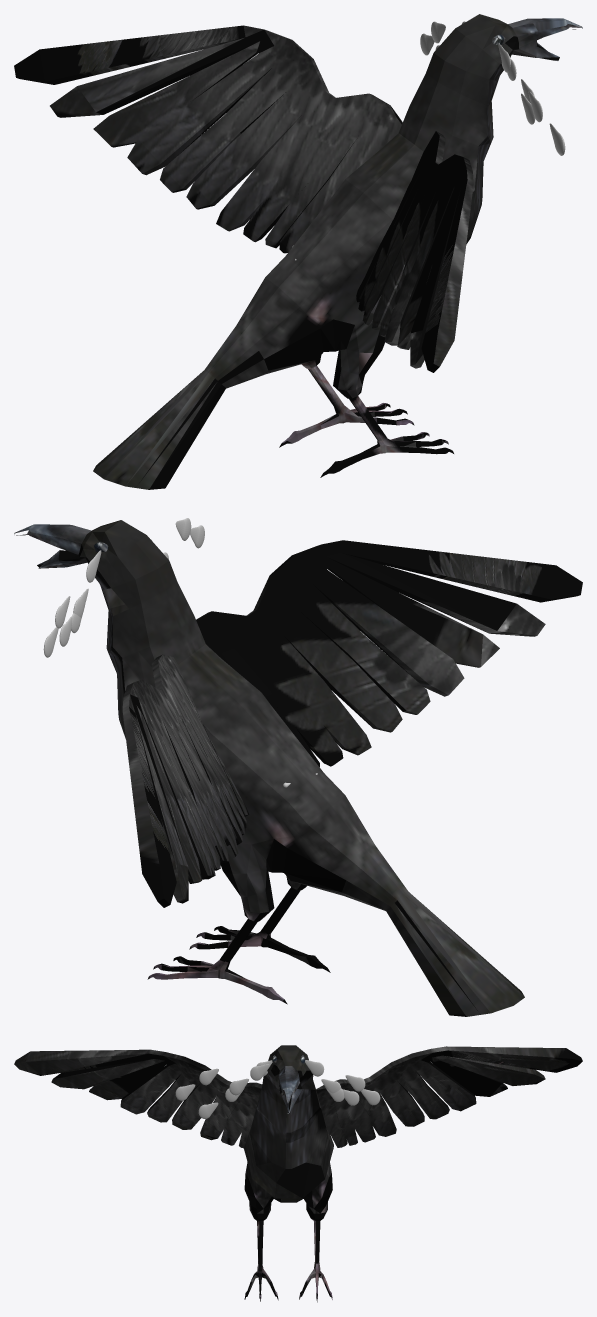
Rendered from aasooo_000006.obj.
3 views of the same model, one above another, from view 1: azimuth 30°, elevation 25°; view 2: azimuth 150°, elevation 25°; view 3: azimuth 270°, elevation 25° (orthographic). The views are drawn at different scales.
Parts seen in each view (by area): view 1: Cylinder.001, Cylinder.002, Cylinder.003; view 2: Cylinder.001, Cylinder.003, Cylinder.002; view 3: Cylinder.002, Cylinder.001, Cylinder.003.
Boxes of the visible parts, x1=… form: Cylinder.001: x1=93, y1=14, x2=582, y2=489; Cylinder.002: x1=14, y1=25, x2=402, y2=253; Cylinder.003: x1=356, y1=131, x2=473, y2=372; Cylinder.001: x1=14, y1=520, x2=524, y2=1016; Cylinder.003: x1=196, y1=540, x2=582, y2=766; Cylinder.002: x1=122, y1=654, x2=249, y2=907; Cylinder.002: x1=316, y1=1046, x2=582, y2=1147; Cylinder.001: x1=243, y1=1045, x2=333, y2=1302; Cylinder.003: x1=14, y1=1049, x2=262, y2=1148.
Bounding box in the file's own units: 2.61 × 2.05 × 3.86.
